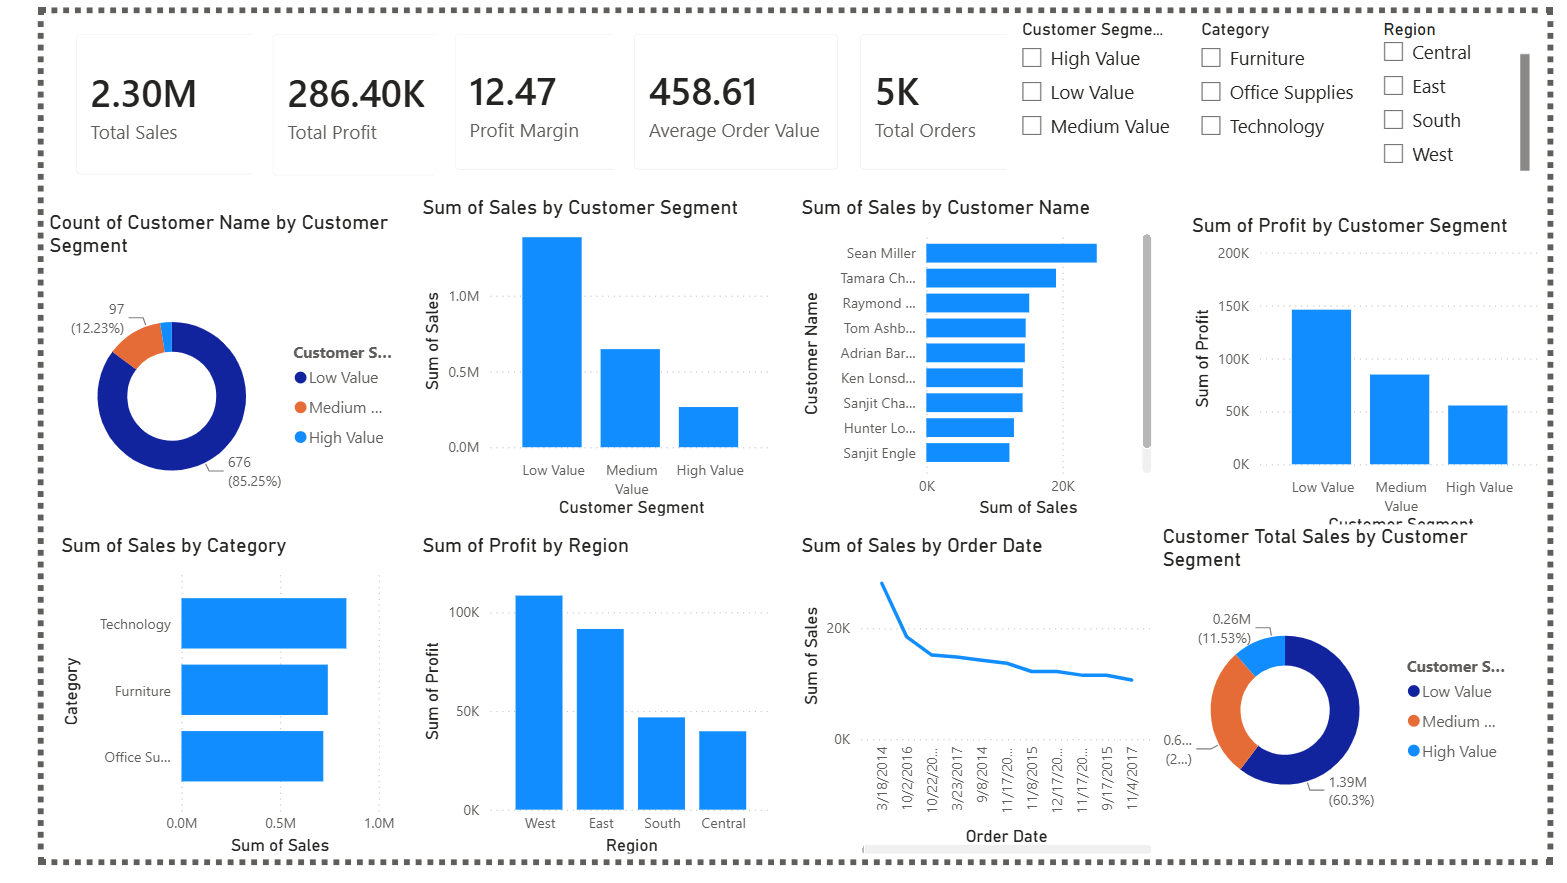

The dashboard page shown, as its layout file describes it:
{"tool":"powerbi","page":{"name":"Page 1","canvas":[1280,720],"ordinal":0},"visuals":[{"type":"cardVisual","fields":{"Data":["SampleSuperstore.Total Sales"]},"box":[9.9,0,194.6,154.9],"z":0},{"type":"cardVisual","fields":{"Data":["SampleSuperstore.Total Profit"]},"box":[178.1,0,186.2,155.4],"z":1000},{"type":"cardVisual","fields":{"Data":["SampleSuperstore.Profit Margin"]},"box":[331.9,0,207.3,150.6],"z":2000},{"type":"cardVisual","fields":{"Data":["SampleSuperstore.Total Orders"]},"box":[678.5,0,231.5,150.6],"z":3000},{"type":"cardVisual","fields":{"Data":["SampleSuperstore.Average Order Value"]},"box":[484.1,0,208.9,150.6],"z":4000},{"type":"donutChart","fields":{"Category":["SampleSuperstore.Customer Segment"],"Y":["Count(SampleSuperstore.Customer Name)"]},"box":[0,167.5,307.5,277.5],"z":5000},{"type":"clusteredColumnChart","fields":{"Category":["SampleSuperstore.Customer Segment"],"Y":["Sum(SampleSuperstore.Sales)"]},"box":[317.7,154.9,307.8,278],"z":6000},{"type":"clusteredBarChart","fields":{"Category":["SampleSuperstore.Customer Name"],"Y":["Sum(SampleSuperstore.Sales)"]},"box":[639.3,154.9,307.8,278],"z":7000},{"type":"slicer","fields":{"Values":["SampleSuperstore.Customer Segment"]},"box":[819.3,0,153.8,139.3],"z":8000},{"type":"clusteredColumnChart","fields":{"Category":["SampleSuperstore.Customer Segment"],"Y":["Sum(SampleSuperstore.Profit)"]},"box":[972.5,170,307.5,277.5],"z":9000},{"type":"clusteredBarChart","fields":{"Y":["Sum(SampleSuperstore.Sales)"],"Category":["SampleSuperstore.Category"]},"box":[9.9,442.8,293.9,278],"z":10000},{"type":"clusteredColumnChart","fields":{"Category":["SampleSuperstore.Region"],"Y":["Sum(SampleSuperstore.Profit)"]},"box":[317.7,442.8,307.8,278],"z":11000},{"type":"lineChart","fields":{"Y":["Sum(SampleSuperstore.Sales)"],"Category":["SampleSuperstore.Order Date"]},"box":[639.3,442.8,307.8,278],"z":12000},{"type":"donutChart","fields":{"Category":["SampleSuperstore.Customer Segment"],"Y":["SampleSuperstore.Customer Total Sales"]},"box":[947.2,434,307.7,276.9],"z":13000},{"type":"slicer","fields":{"Values":["SampleSuperstore.Category"]},"box":[973.2,0,153.8,139.3],"z":14000},{"type":"slicer","fields":{"Values":["SampleSuperstore.Region"]},"box":[1127,0,142.5,139.3],"z":15000}]}

Visuals, with their boxes in screenshot pixels (x1, y1, x2, y2), scaled from the page's 1280x720 canvas onto the 1567x883 screenshot:
cardVisual - SampleSuperstore.Total Sales: {"x1": 12, "y1": 0, "x2": 250, "y2": 190}
cardVisual - SampleSuperstore.Total Profit: {"x1": 218, "y1": 0, "x2": 446, "y2": 191}
cardVisual - SampleSuperstore.Profit Margin: {"x1": 406, "y1": 0, "x2": 660, "y2": 185}
cardVisual - SampleSuperstore.Total Orders: {"x1": 831, "y1": 0, "x2": 1114, "y2": 185}
cardVisual - SampleSuperstore.Average Order Value: {"x1": 593, "y1": 0, "x2": 848, "y2": 185}
donutChart - SampleSuperstore.Customer Segment x Count(SampleSuperstore.Customer Name): {"x1": 0, "y1": 205, "x2": 376, "y2": 546}
clusteredColumnChart - SampleSuperstore.Customer Segment x Sum(SampleSuperstore.Sales): {"x1": 389, "y1": 190, "x2": 766, "y2": 531}
clusteredBarChart - SampleSuperstore.Customer Name x Sum(SampleSuperstore.Sales): {"x1": 783, "y1": 190, "x2": 1159, "y2": 531}
slicer - SampleSuperstore.Customer Segment: {"x1": 1003, "y1": 0, "x2": 1191, "y2": 171}
clusteredColumnChart - SampleSuperstore.Customer Segment x Sum(SampleSuperstore.Profit): {"x1": 1191, "y1": 208, "x2": 1566, "y2": 549}
clusteredBarChart - Sum(SampleSuperstore.Sales) x SampleSuperstore.Category: {"x1": 12, "y1": 543, "x2": 372, "y2": 882}
clusteredColumnChart - SampleSuperstore.Region x Sum(SampleSuperstore.Profit): {"x1": 389, "y1": 543, "x2": 766, "y2": 882}
lineChart - Sum(SampleSuperstore.Sales) x SampleSuperstore.Order Date: {"x1": 783, "y1": 543, "x2": 1159, "y2": 882}
donutChart - SampleSuperstore.Customer Segment x SampleSuperstore.Customer Total Sales: {"x1": 1160, "y1": 532, "x2": 1536, "y2": 872}
slicer - SampleSuperstore.Category: {"x1": 1191, "y1": 0, "x2": 1380, "y2": 171}
slicer - SampleSuperstore.Region: {"x1": 1380, "y1": 0, "x2": 1554, "y2": 171}
